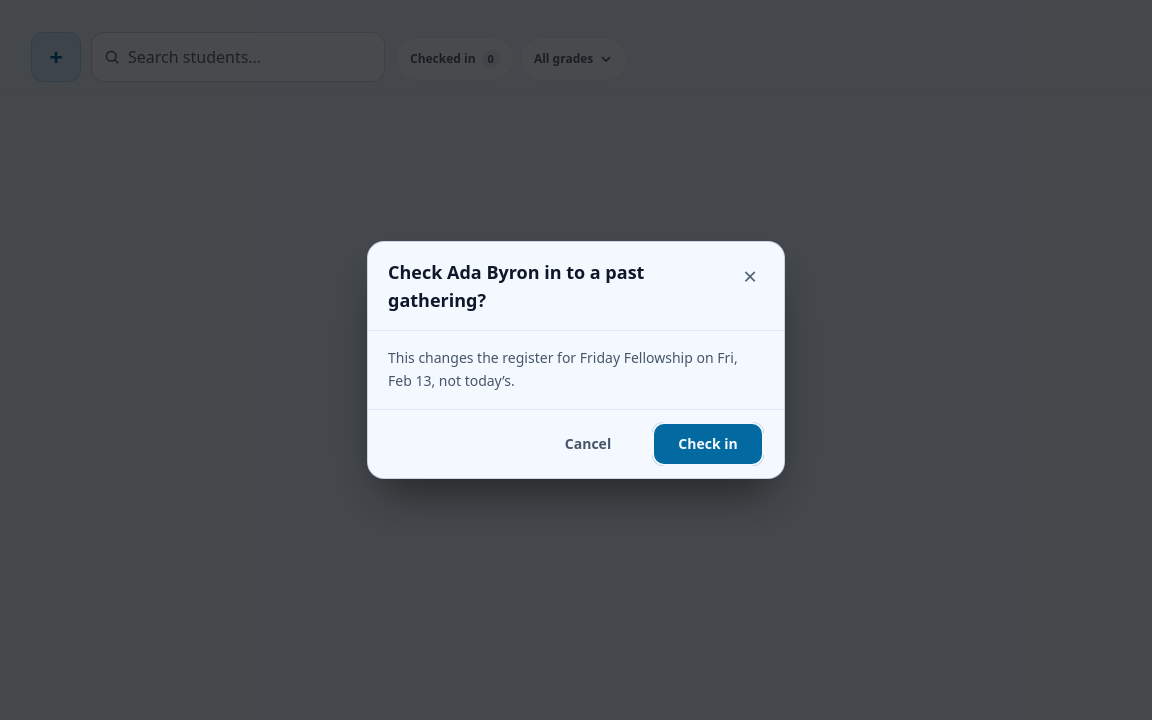
Scenario: a past gathering › asks before a check-in, and writes it once confirmed
Expected: the heading "Check Ada Byron in to a past gathering?" is shown, [388, 260, 644, 312]
Click the button "Check in" at (708, 444), box [652, 422, 764, 466]
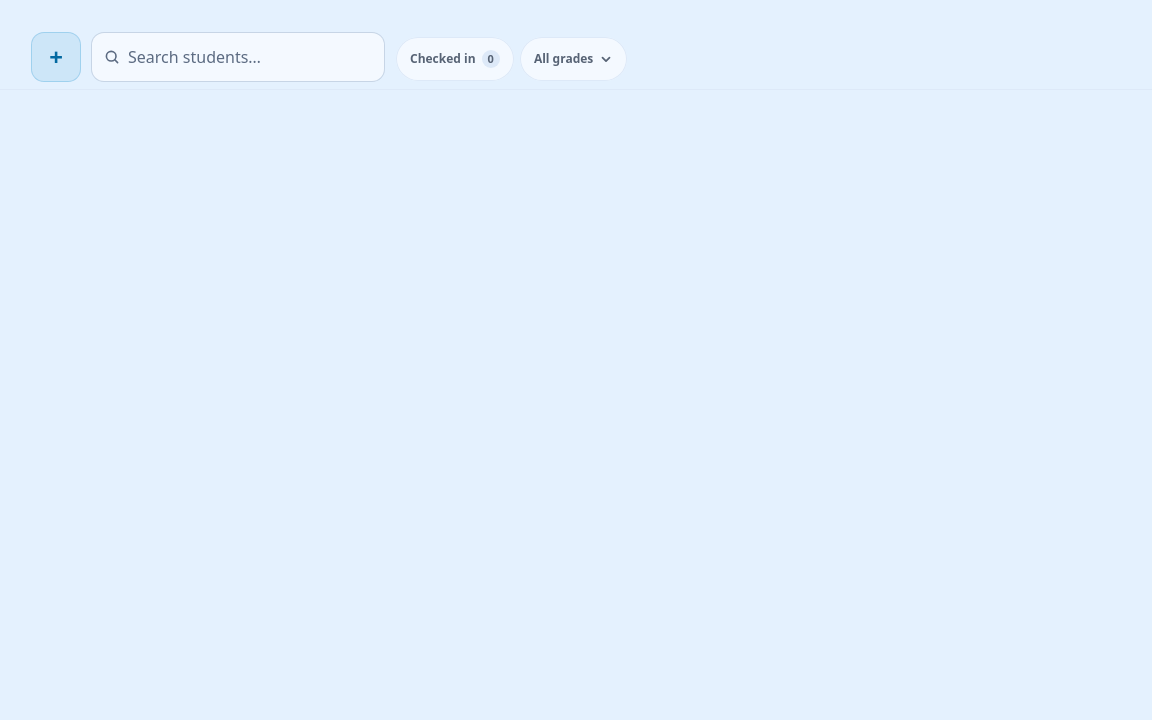
Expected: the dialog is gone
